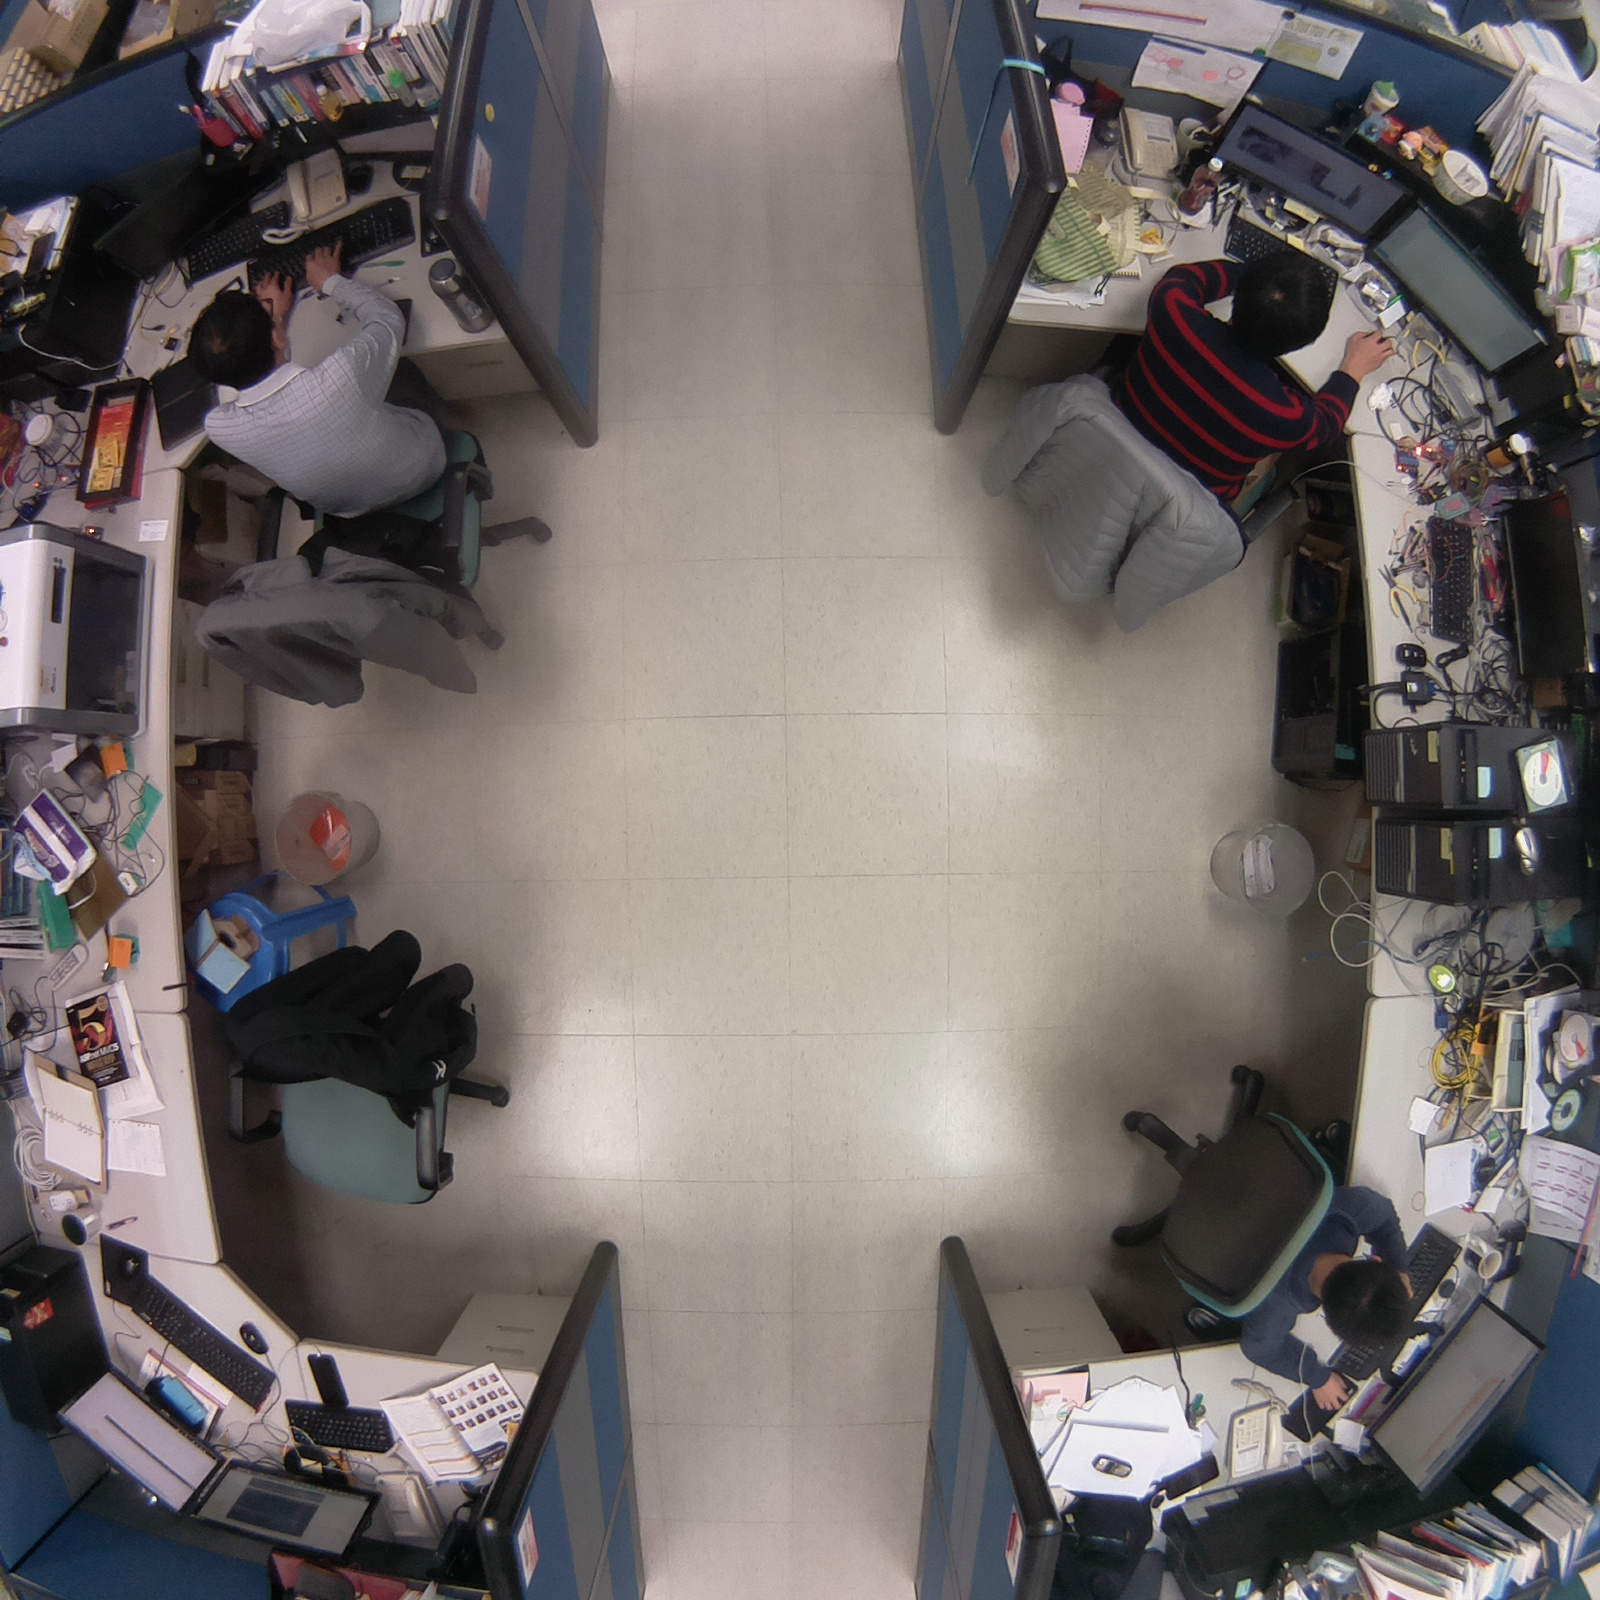chair: (214, 906, 527, 1229)
head: (1310, 1248, 1425, 1361), (1223, 240, 1334, 359), (185, 289, 285, 393)
sitting: (158, 222, 570, 724), (953, 242, 1406, 642), (1081, 1042, 1432, 1422)
